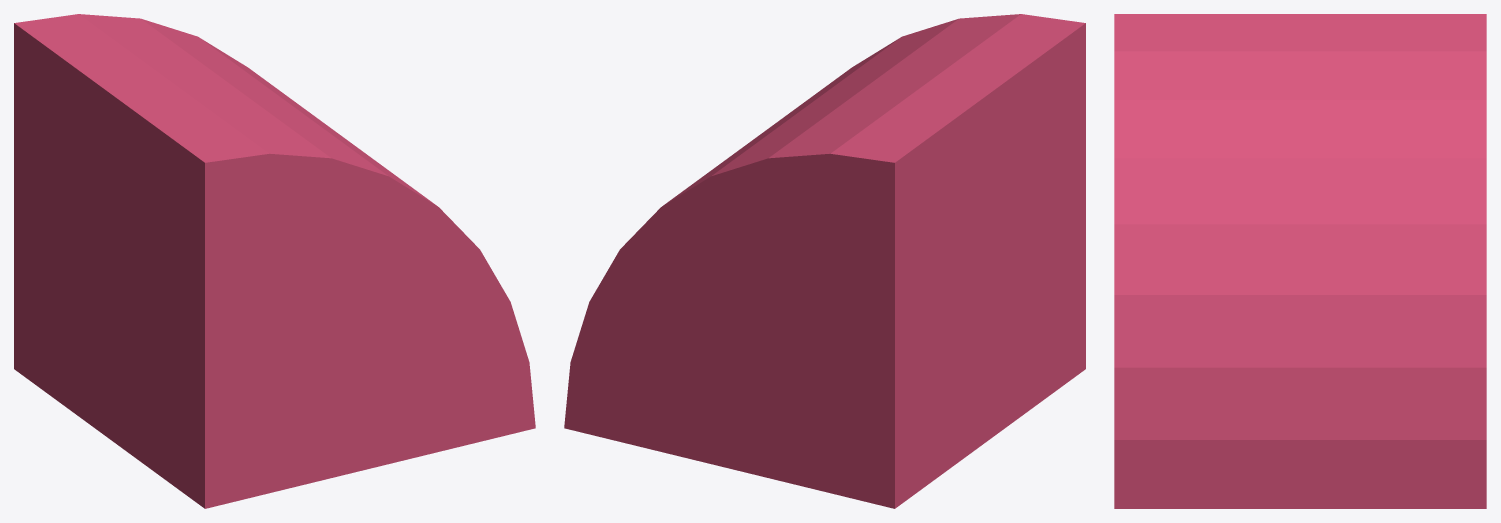
The model's file is r4c3_body_pink.gltf.
3 views of the same model, side by side, from view 1: azimuth 30°, elevation 25°; view 2: azimuth 150°, elevation 25°; view 3: azimuth 270°, elevation 25° (orthographic). The views are drawn at different scales.
Parts seen in each view (by area): view 1: r4c3_body_pink; view 2: r4c3_body_pink; view 3: r4c3_body_pink.
Boxes of the visible parts, x1,y1,x2,y2 form: r4c3_body_pink: [14, 14, 535, 508]; r4c3_body_pink: [564, 14, 1085, 508]; r4c3_body_pink: [1114, 14, 1486, 508].
Size of what is drawn, in the model's own units: 2 by 2 by 2.
Materials: 1 (1 with a texture image).
